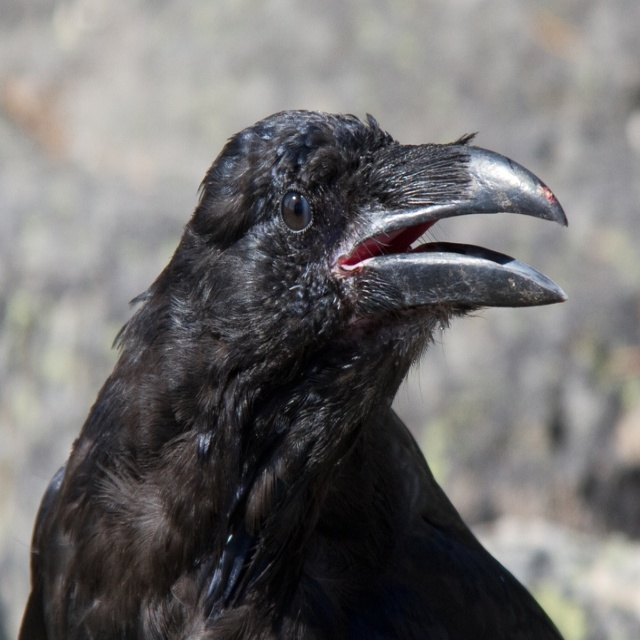Raven: (30, 106, 584, 640)
